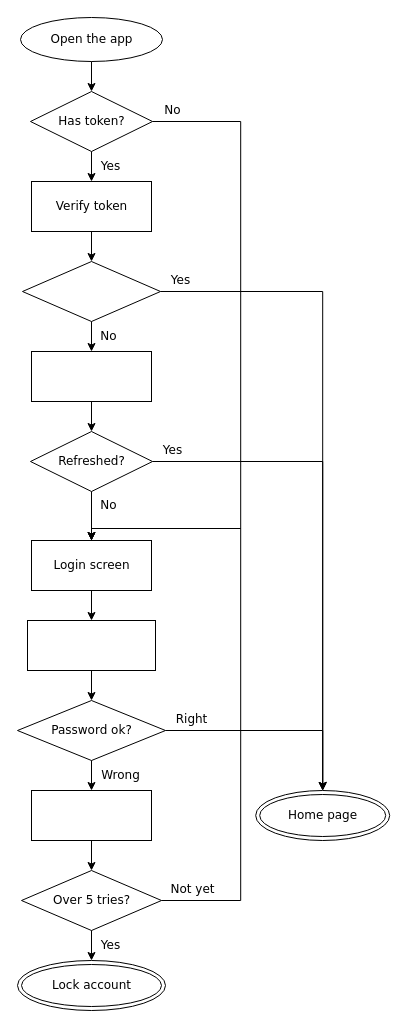
The diagram is 408 pixels wide and 1028 high, and some of its shapes have lost their labels. Each missing label, with the centre of its shape:
Count failure: the point at 91,815
Refresh token: the point at 91,376
Submit account: the point at 91,645
Token valid?: the point at 91,291
